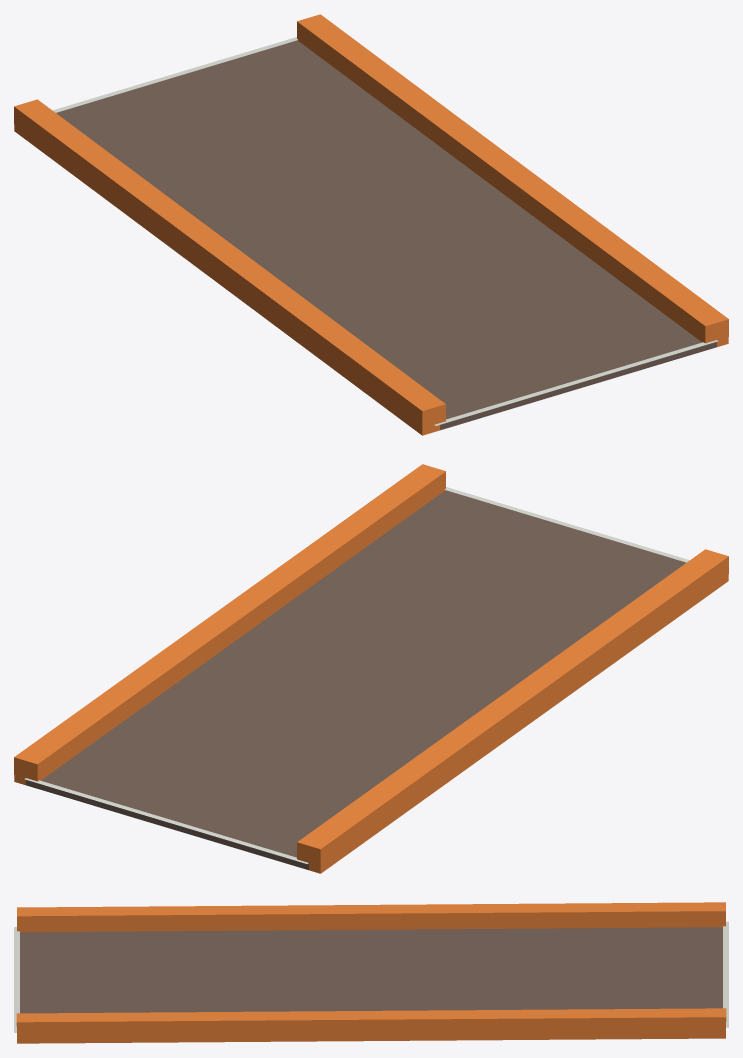
File: SM_MP_Film_C_5_2.fbx
3 views of the same model, one above another, from view 1: azimuth 30°, elevation 25°; view 2: azimuth 150°, elevation 25°; view 3: azimuth 270°, elevation 25° (orthographic). The views are drawn at different scales.
Visible parts, largest first — view 1: SM_MP_Film_C_5_2; view 2: SM_MP_Film_C_5_2; view 3: SM_MP_Film_C_5_2.
Boxes of the visible parts, x1,y1,x2,y2 form: SM_MP_Film_C_5_2: (14, 14, 728, 435); SM_MP_Film_C_5_2: (14, 464, 728, 873); SM_MP_Film_C_5_2: (14, 902, 728, 1043).
Size of what is drawn, in the model's own units: 260 by 605 by 38.82.
